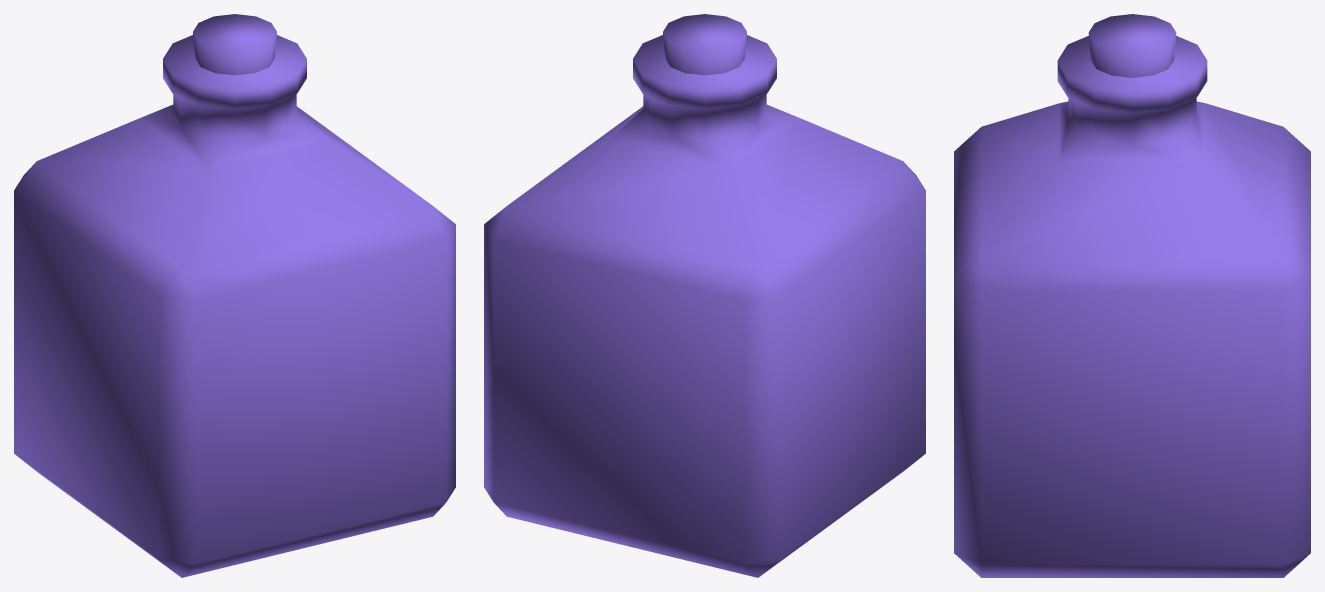
File: bottle1.fbx
The picture shows the model from 3 angles, left to right: view 1: azimuth 30°, elevation 25°; view 2: azimuth 150°, elevation 25°; view 3: azimuth 270°, elevation 25°; orthographic projection. The views are drawn at different scales.
Visible parts, largest first — view 1: bottle1; view 2: bottle1; view 3: bottle1.
Part boxes in pixels (x1,y1,x2,y2): bottle1: (14,14,455,577); bottle1: (484,14,925,577); bottle1: (954,14,1310,577).
Bounding box in the file's own units: 7.94 × 11.83 × 7.94.
